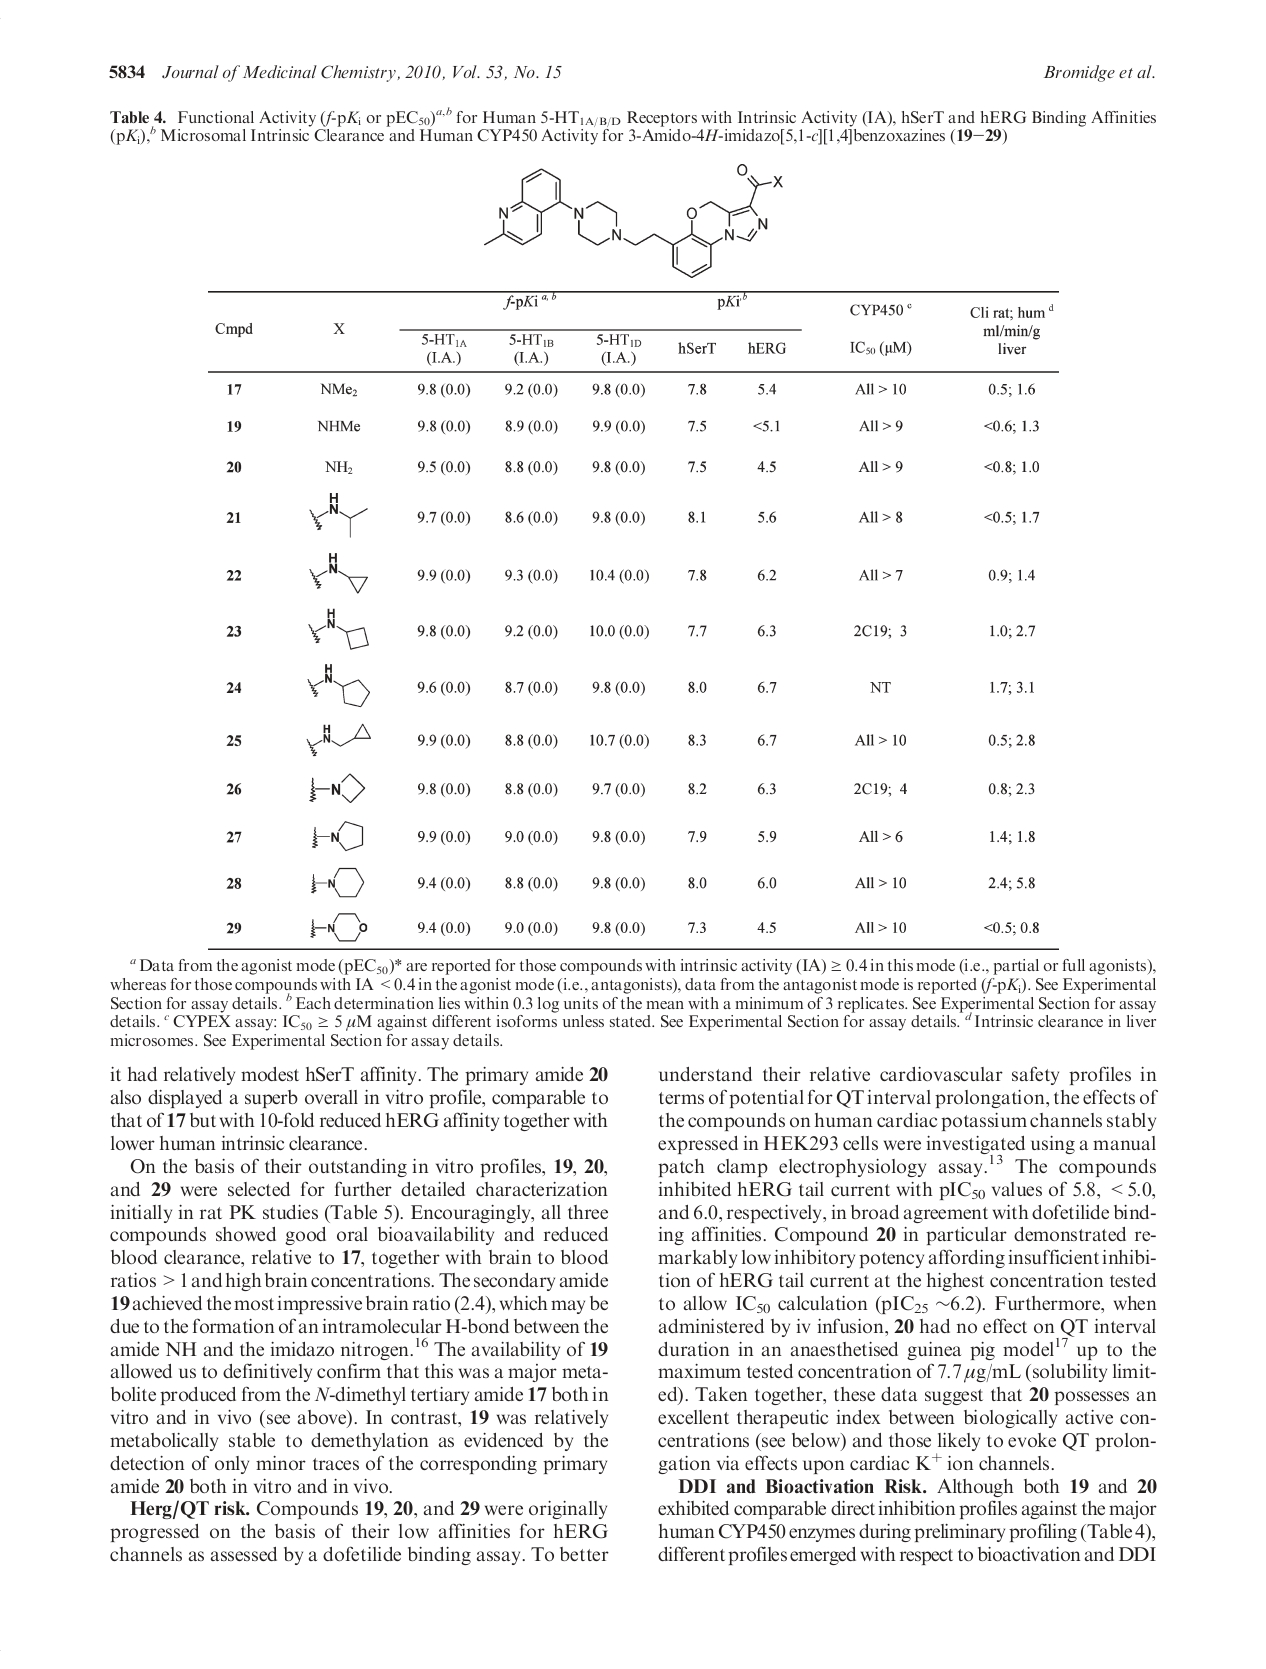exist_molecular: (480, 160, 786, 281), (306, 551, 371, 598), (306, 660, 371, 707), (307, 491, 370, 539), (305, 605, 368, 650), (305, 721, 372, 759), (309, 910, 370, 944), (309, 864, 366, 900), (305, 773, 366, 805), (309, 821, 367, 854)
